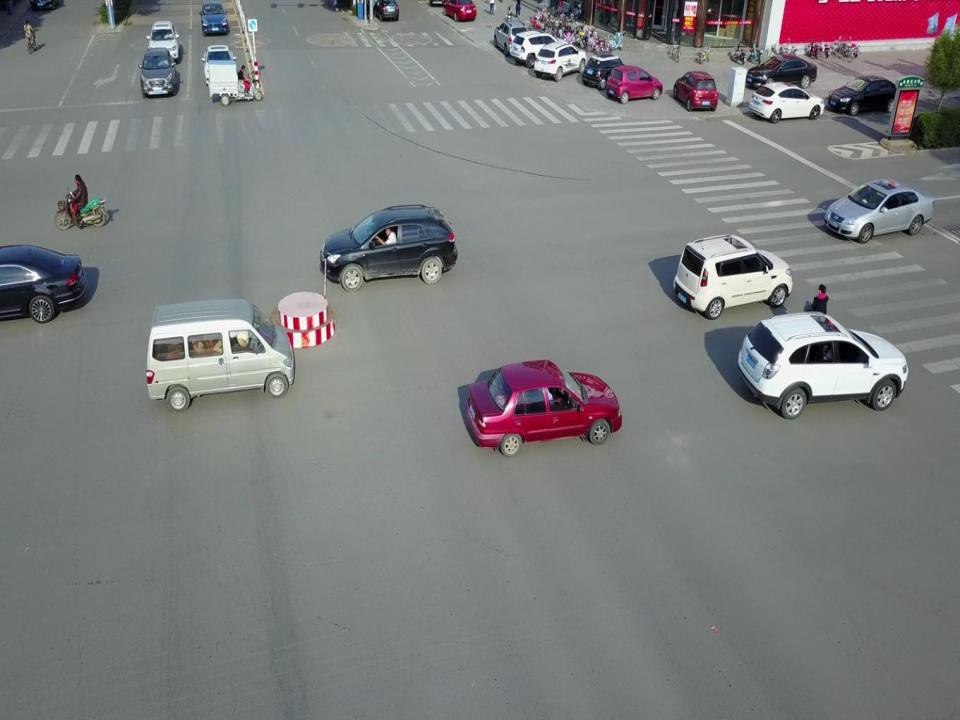car: (735, 310, 910, 422), (143, 300, 297, 412), (464, 356, 620, 454), (318, 203, 463, 291), (671, 229, 794, 317), (822, 174, 937, 245), (1, 243, 89, 325), (829, 69, 898, 118), (750, 83, 827, 125), (746, 52, 816, 88), (530, 38, 590, 77), (607, 64, 664, 103), (140, 43, 176, 100), (674, 66, 718, 112), (579, 54, 627, 88), (509, 28, 558, 61), (201, 42, 237, 86), (146, 18, 180, 62), (490, 18, 526, 53), (200, 1, 232, 39), (443, 0, 477, 22), (375, 0, 400, 24)
